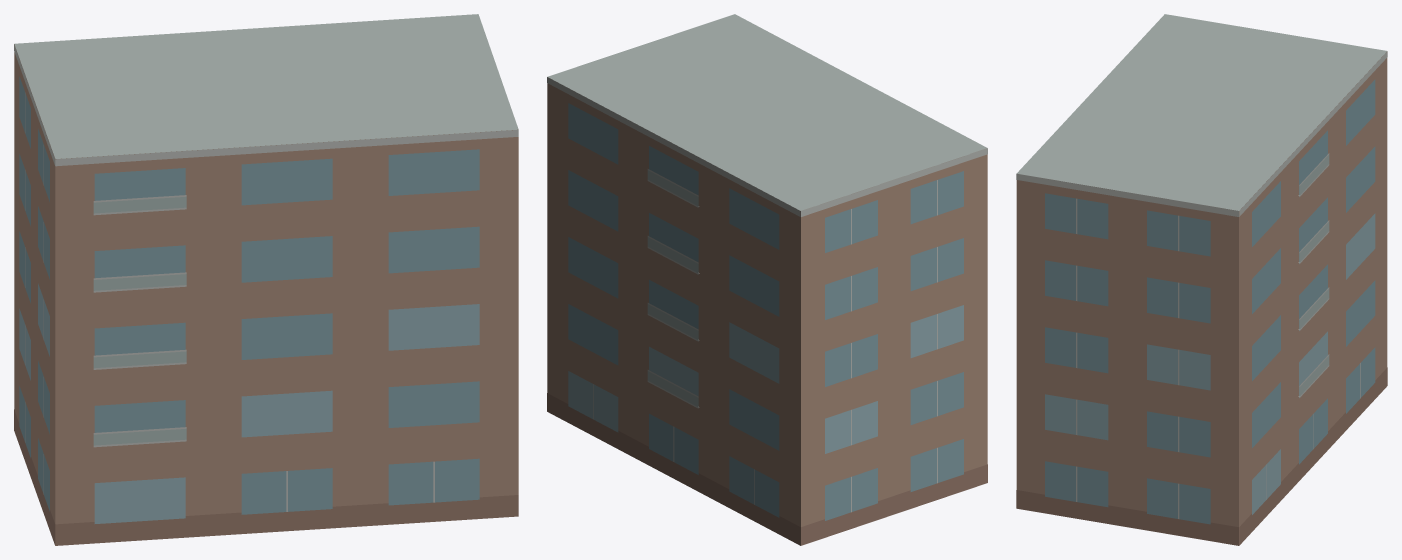
Rendered from survey-upis-32877239.glb.
3 views of the same model, side by side, from view 1: azimuth 30°, elevation 25°; view 2: azimuth 150°, elevation 25°; view 3: azimuth 270°, elevation 25° (orthographic). The views are drawn at different scales.
Parts seen in each view (by area): view 1: survey-upis-32877239.tmp; view 2: survey-upis-32877239.tmp; view 3: survey-upis-32877239.tmp.
Boxes of the visible parts, box(x1,y1,x2,y2) form: survey-upis-32877239.tmp: box(14, 14, 518, 545); survey-upis-32877239.tmp: box(547, 14, 987, 545); survey-upis-32877239.tmp: box(1016, 14, 1387, 545).
Size of the model in its own units: 16.66 by 13.2 by 13.26.
